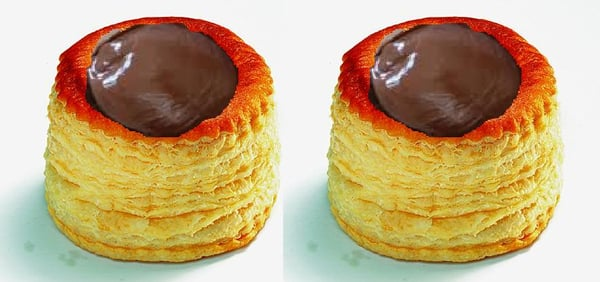sushi: (325, 17, 565, 263), (42, 16, 281, 263)
